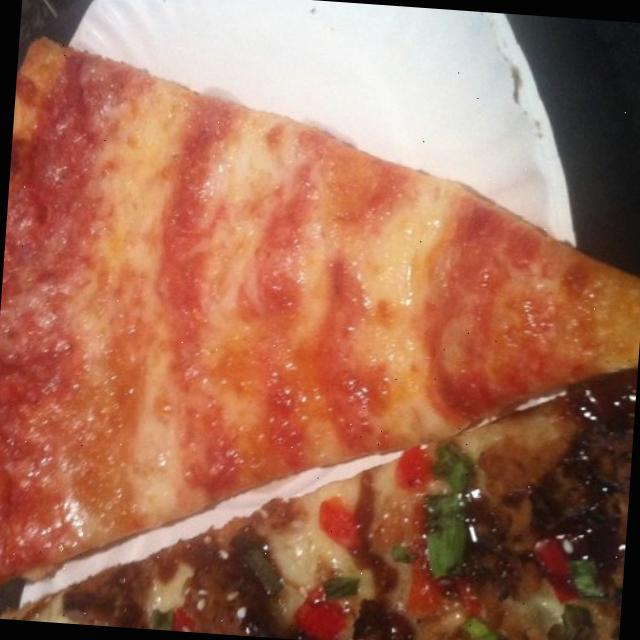pizza: (0, 38, 640, 580), (2, 372, 635, 640)
